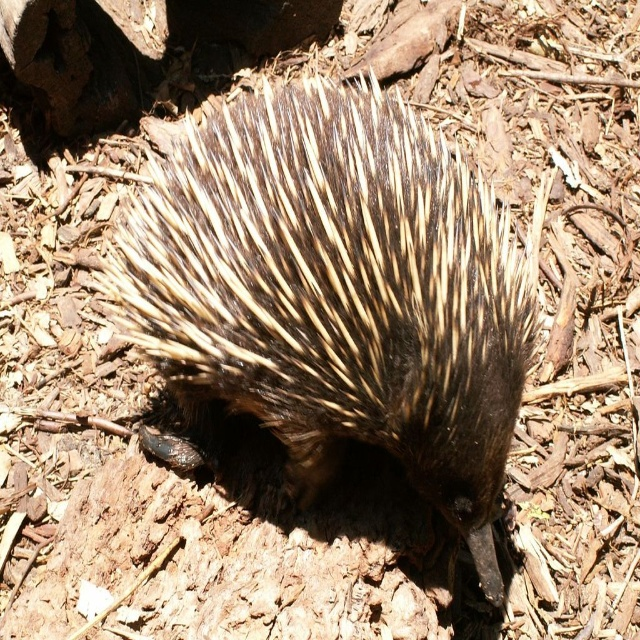Hedgehog: (90, 64, 546, 607)
